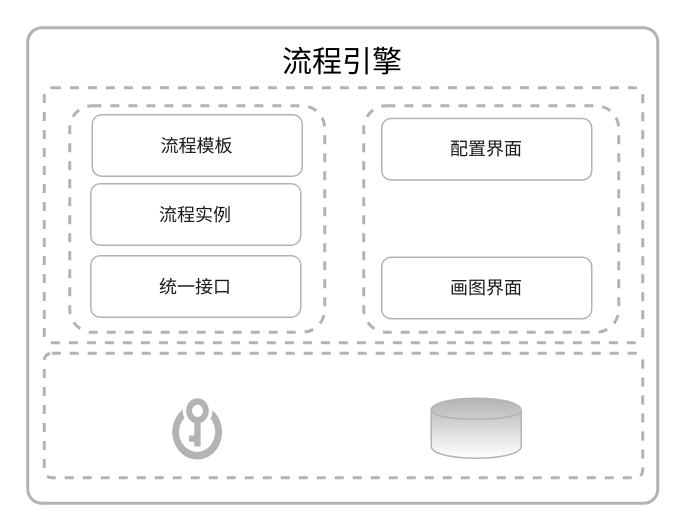
Some shapes in this 684 by 530 pixel diagram are drawn without their labels. The centre of each missing label's shape, as x and y in pixels:
"数据库" belongs at point (475, 427).
"算法逻辑" belongs at point (197, 428).
